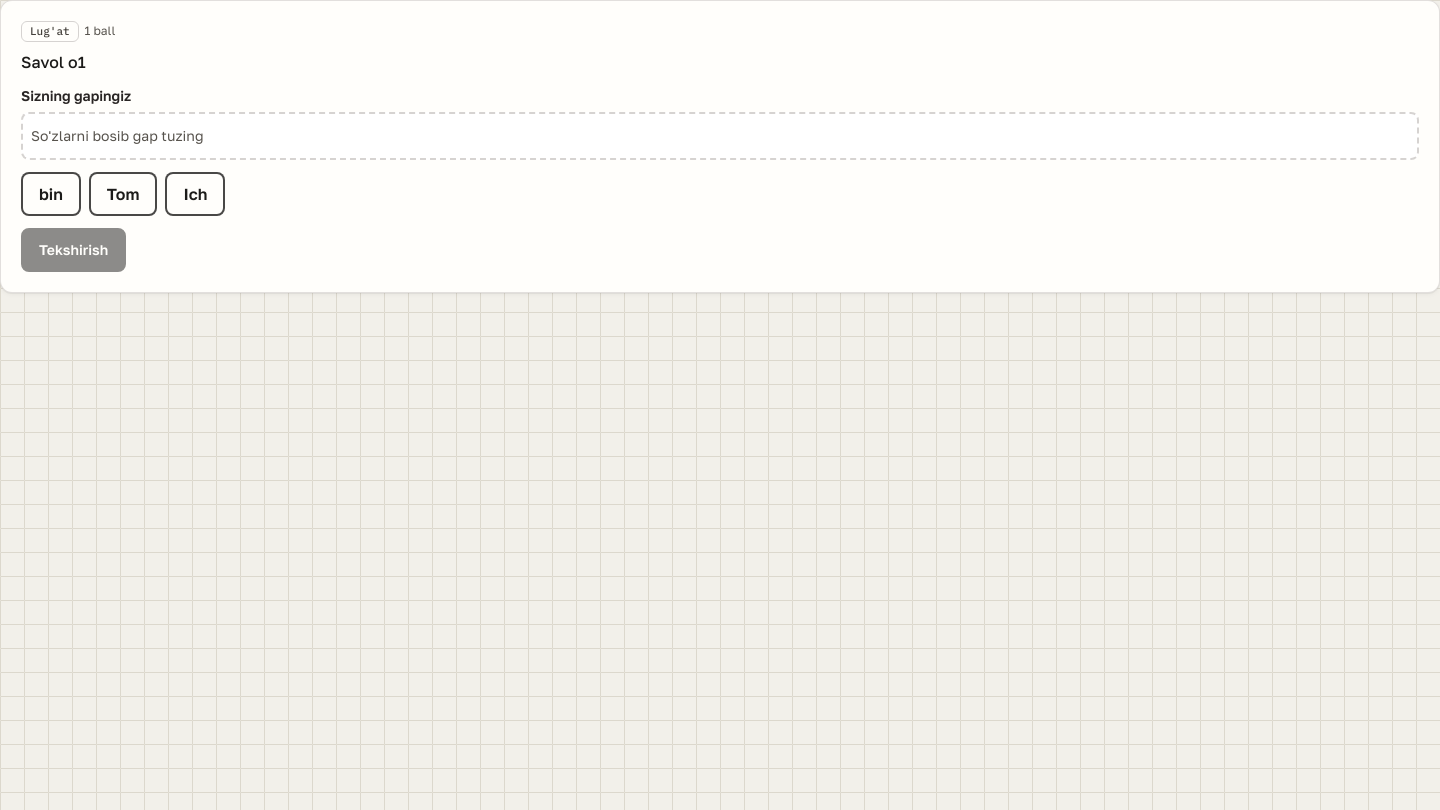
order_words exercise › builds the sentence by tapping tokens and sends list[str]
Click the button "Tom". click: (123, 194)
box: [89,172,157,216]
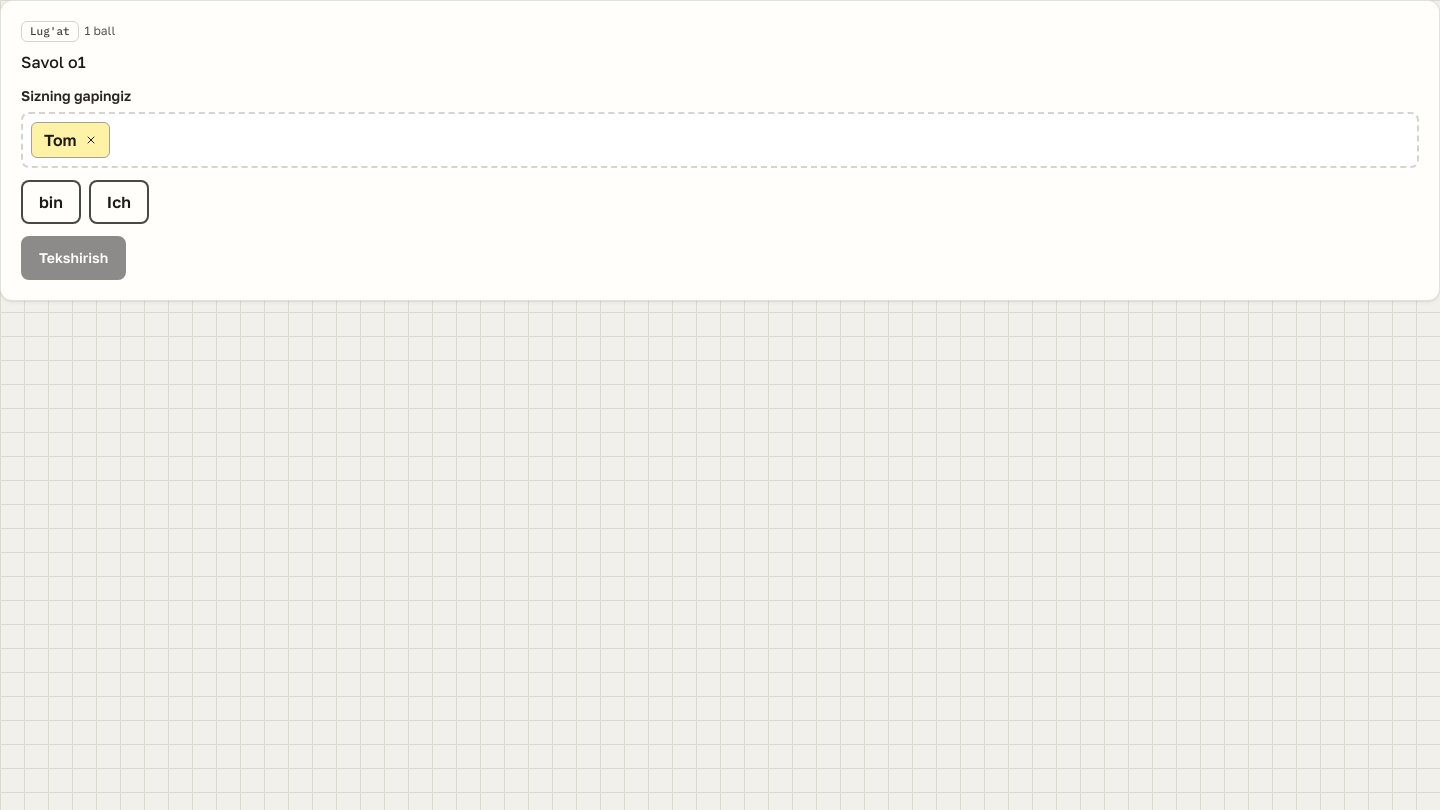
Click the button with aria-label "Tom — olib tashlash". click: (70, 140)
box: [31,122,110,158]
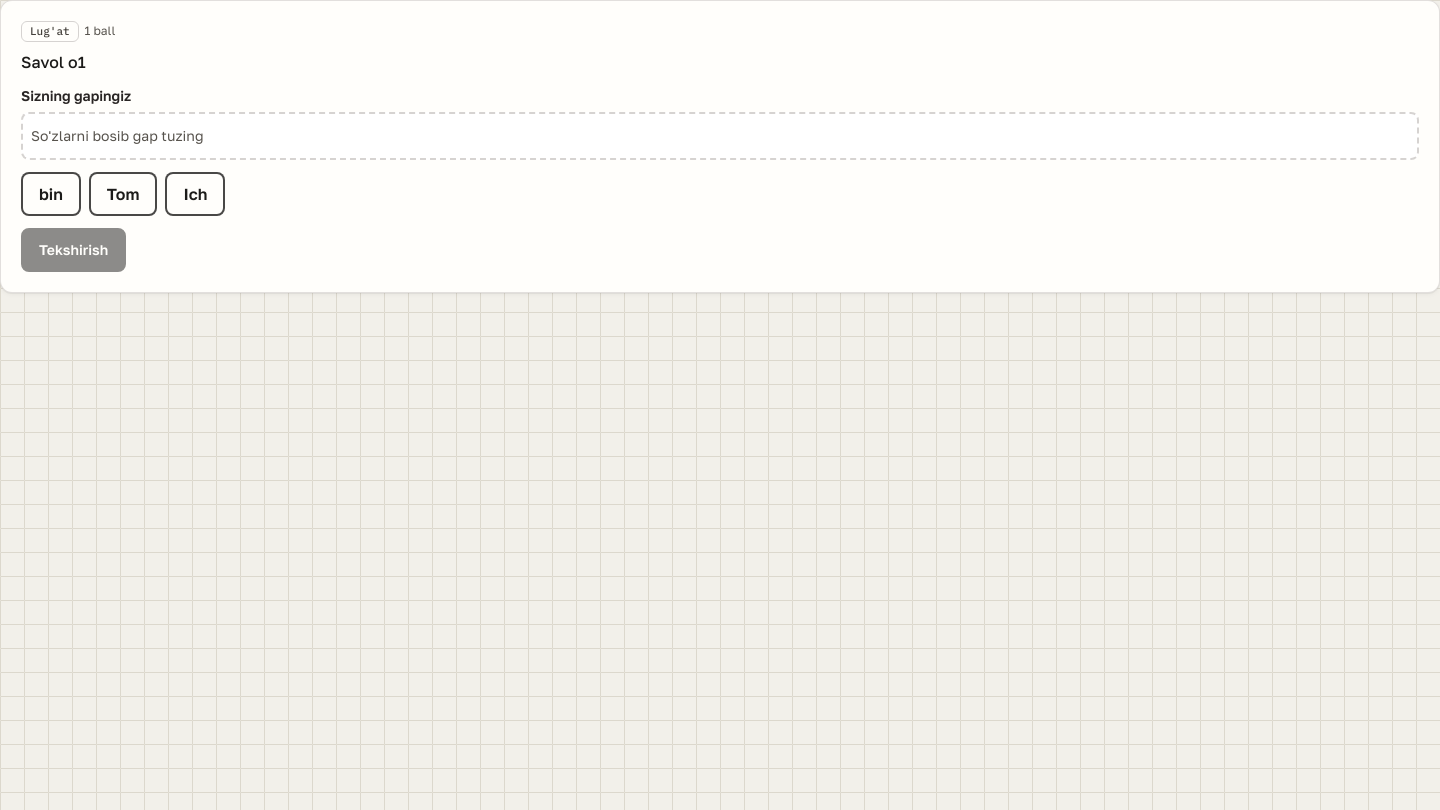
Click the button "Ich". click: (195, 194)
box: [165,172,225,216]
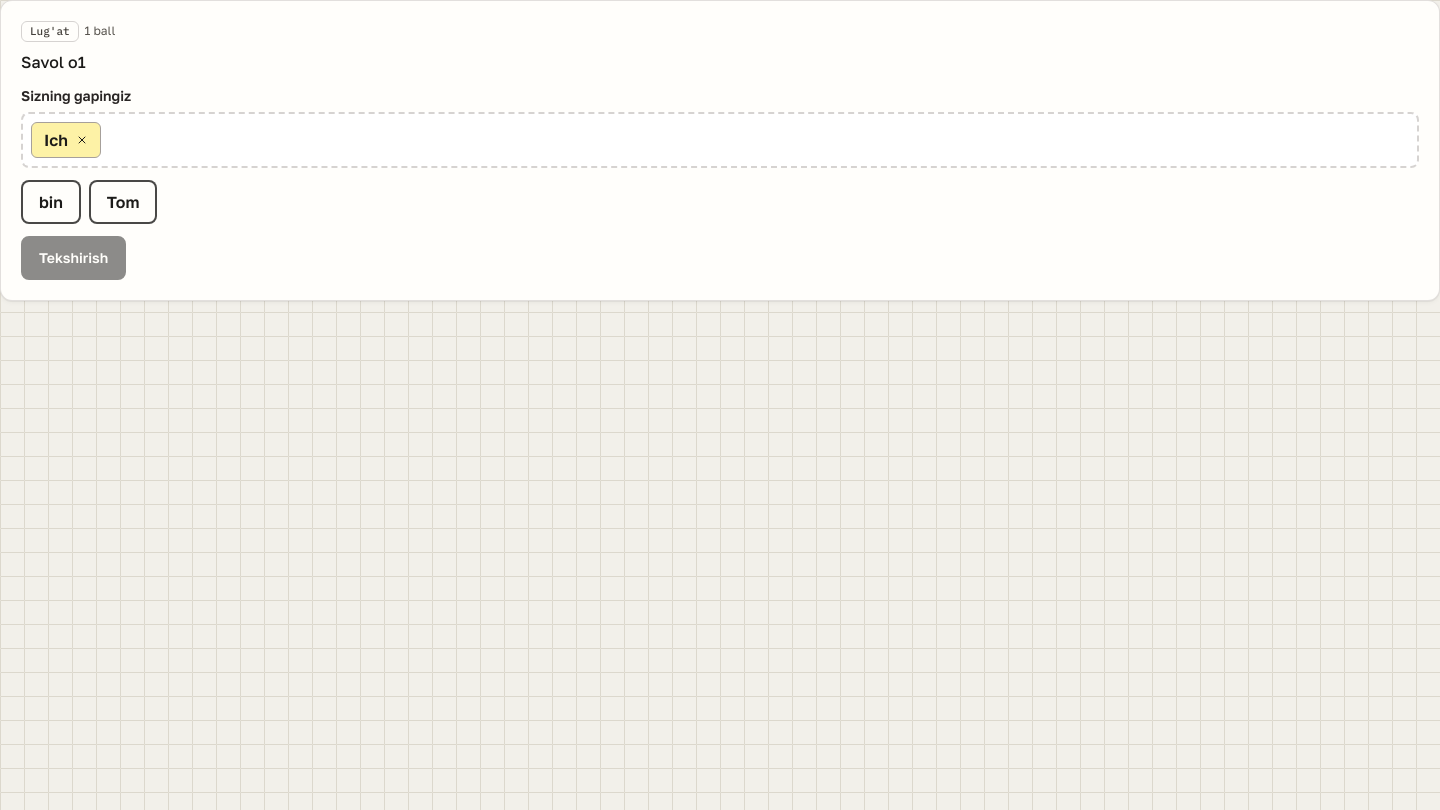
Click the button "bin". click: (51, 202)
box: [21,180,81,224]
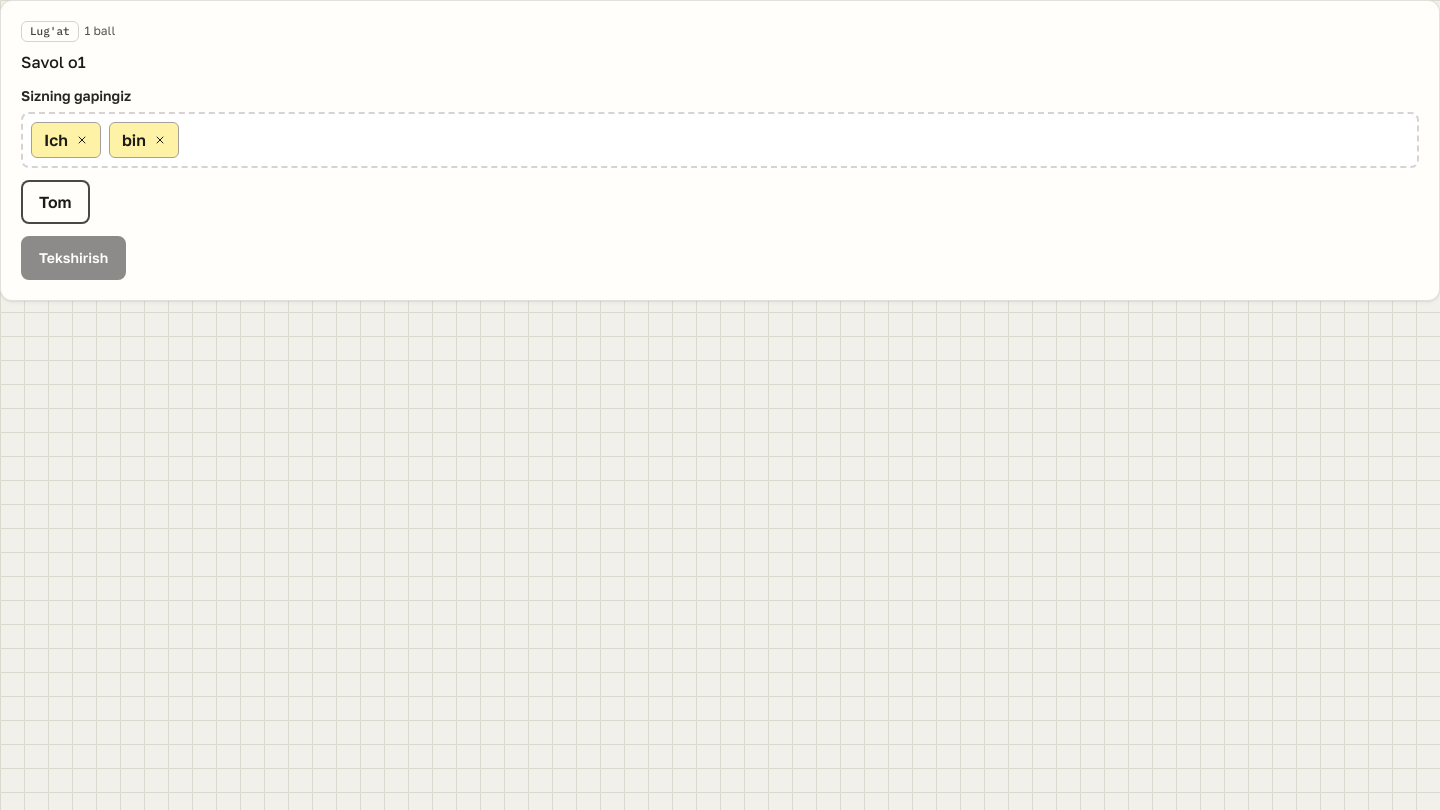
Expected: the button "Tekshirish" is disabled, [21,236,126,280]
Click the button "Tom". click: (55, 202)
box: [21,180,90,224]
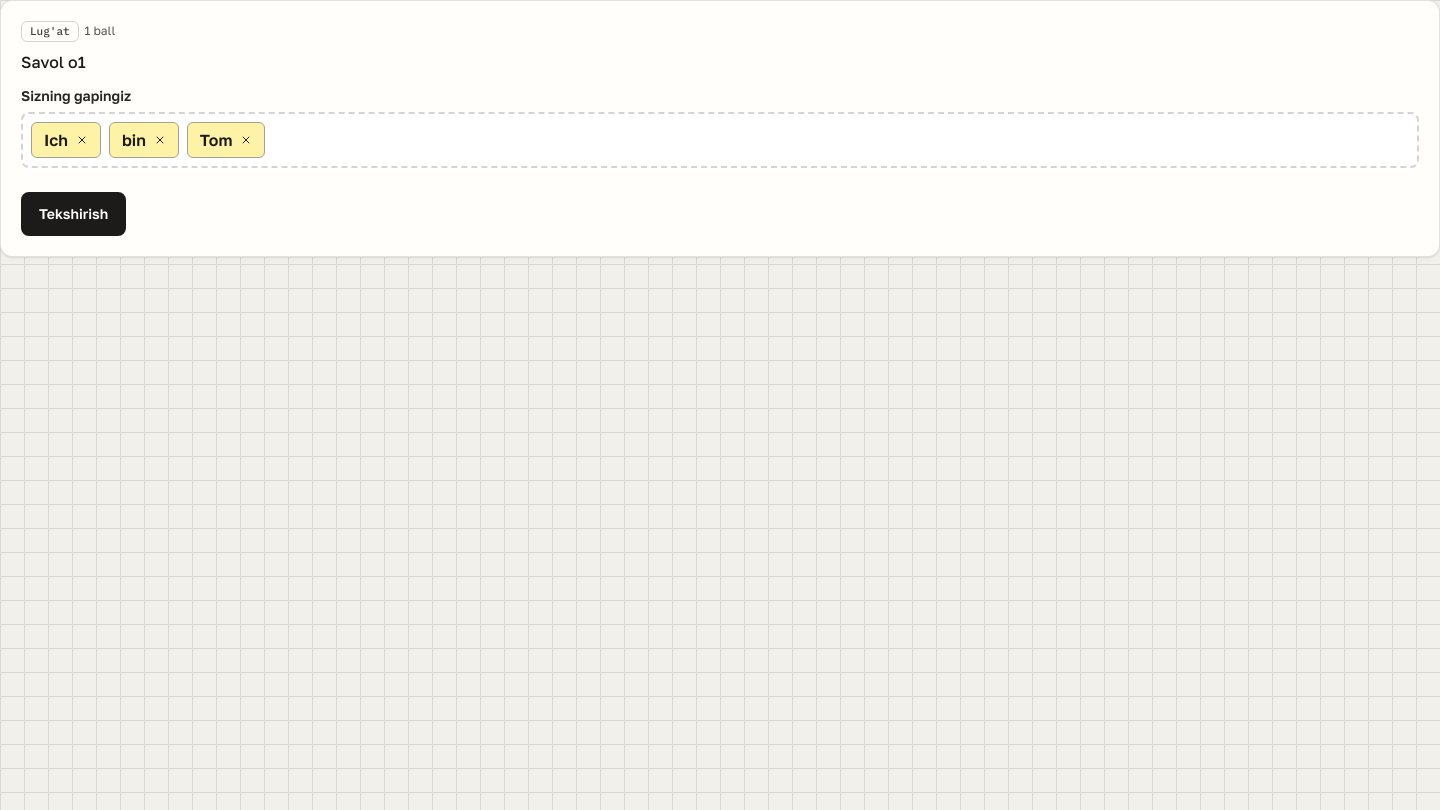
Click the button "Tekshirish". click: (74, 214)
box: [21,192,126,236]
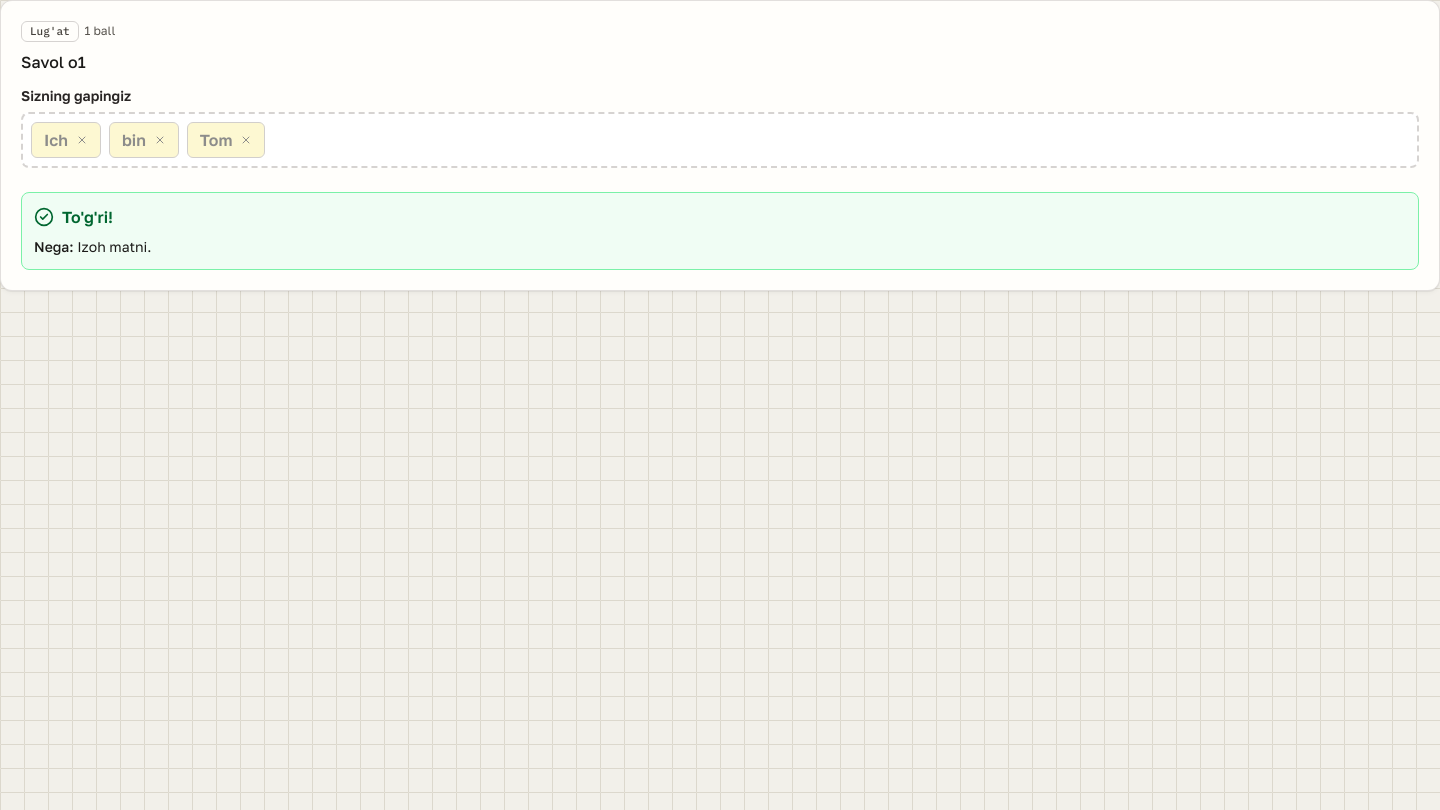
Expected: the text "To'g'ri!" is shown, [34,207,113,227]
